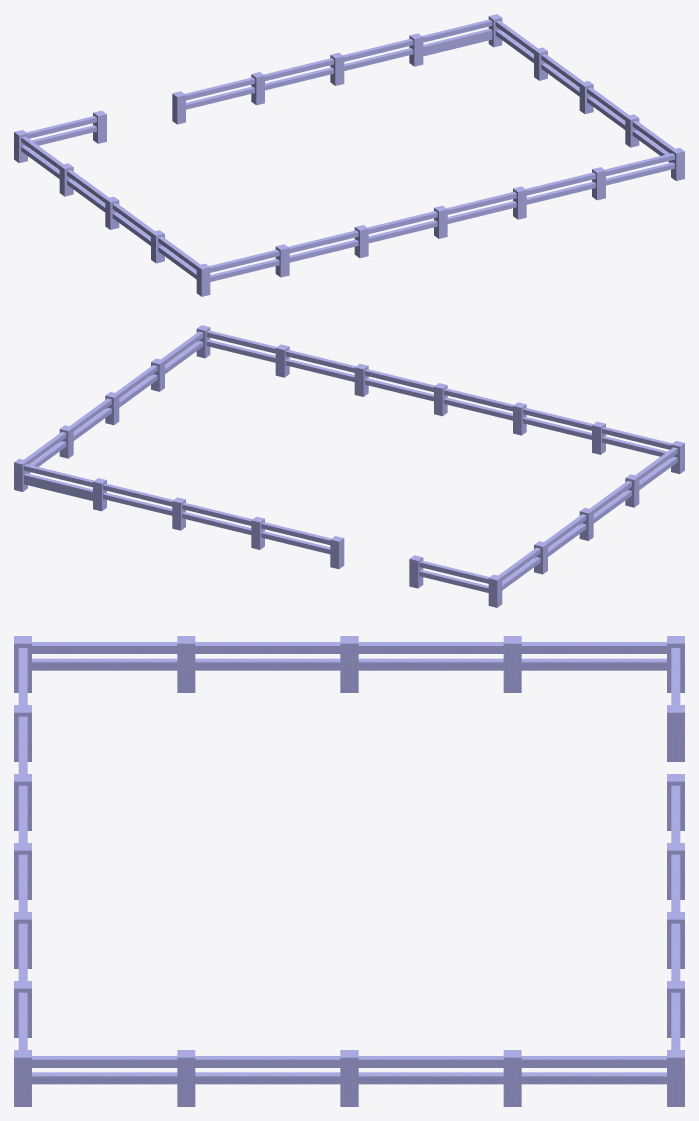
File: Fence.fbx
3 views of the same model, one above another, from view 1: azimuth 30°, elevation 25°; view 2: azimuth 150°, elevation 25°; view 3: azimuth 270°, elevation 25° (orthographic). The views are drawn at different scales.
Parts seen in each view (by area): view 1: MaterialMesh; view 2: MaterialMesh; view 3: MaterialMesh.
Boxes of the visible parts, x1,y1,x2,y2 form: MaterialMesh: (14, 14, 684, 296); MaterialMesh: (14, 325, 684, 607); MaterialMesh: (14, 636, 684, 1106).
Bounding box in the file's own units: 2750 × 150 × 1850.
